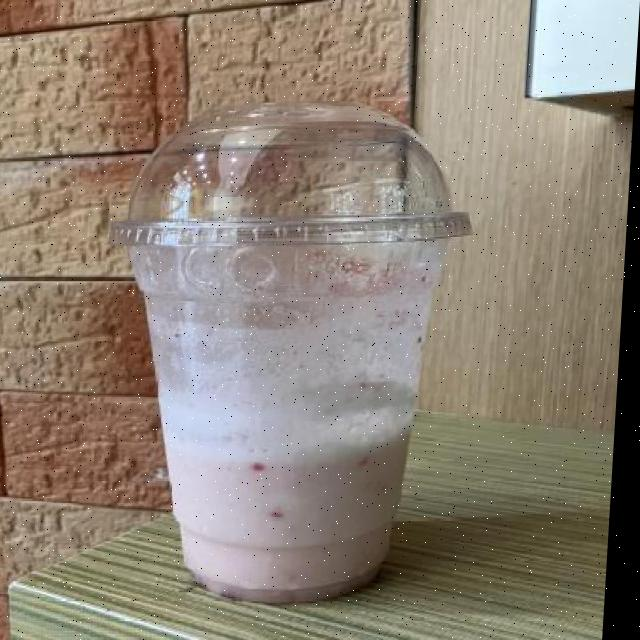cup: (92, 85, 476, 638)
